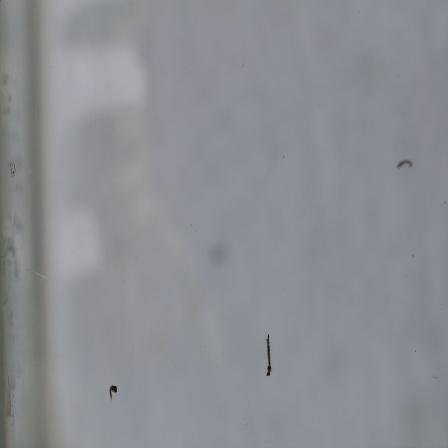Jentik-Nyamuk: (263, 332, 276, 379), (394, 155, 415, 173), (105, 382, 121, 403)
